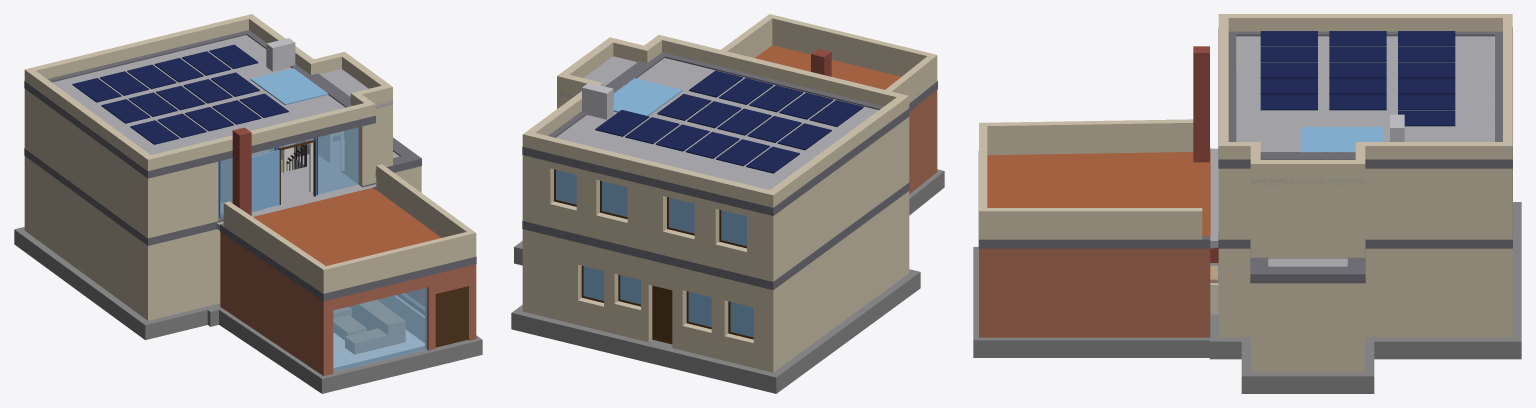
Rendered from casa_v8.glb.
The picture shows the model from 3 angles, left to right: view 1: azimuth 30°, elevation 25°; view 2: azimuth 150°, elevation 25°; view 3: azimuth 270°, elevation 25°; orthographic projection. The views are drawn at different scales.
Visible parts, largest first — view 1: muros_PB, muros_PA, muros_salon, parapeto_cubierta, paneles_solares, cimentacion, parapeto_terraza, forjado_cubierta, solado_terraza, cristal_PB, zuncho_cubierta, zuncho_forjado (+10 smaller); view 2: muros_PB, muros_PA, parapeto_cubierta, paneles_solares, cimentacion, forjado_cubierta, parapeto_terraza, zuncho_cubierta, zuncho_forjado, vidrios_PA, vidrios_PB, muros_salon (+7 smaller); view 3: muros_PB, muros_PA, muros_salon, cimentacion, parapeto_terraza, paneles_solares, forjado_cubierta, parapeto_cubierta, solado_terraza, zuncho_forjado, zuncho_cubierta, chimenea (+2 smaller).
Part boxes in pixels (x1,y1,x2,y2): muros_PB: (24,142,421,320); muros_PA: (24,35,392,238); muros_salon: (220,232,476,375); parapeto_cubierta: (24,14,392,170); paneles_solares: (72,44,288,144); cimentacion: (14,227,482,393); parapeto_terraza: (223,164,476,293); forjado_cubierta: (52,35,392,154); solado_terraza: (253,187,441,265); cristal_PB: (333,287,427,372); zuncho_cubierta: (24,30,375,178); zuncho_forjado: (24,136,476,301); muros_PB: (522,191,909,372); muros_PA: (522,58,909,281); parapeto_cubierta: (522,35,909,207); paneles_solares: (595,70,863,173); cimentacion: (511,169,944,393); forjado_cubierta: (556,56,878,189); parapeto_terraza: (721,14,937,103); zuncho_cubierta: (522,52,909,215); zuncho_forjado: (522,81,937,290); vidrios_PA: (556,170,746,246); vidrios_PB: (583,266,753,337); muros_salon: (909,90,937,193); muros_PB: (1218,248,1512,372); muros_PA: (1218,36,1512,258); muros_salon: (979,248,1210,337); cimentacion: (973,202,1521,393); parapeto_terraza: (979,119,1202,239); paneles_solares: (1260,31,1455,126); forjado_cubierta: (1236,36,1494,185); parapeto_cubierta: (1218,14,1512,178); solado_terraza: (987,151,1210,237); zuncho_forjado: (978,147,1512,283); zuncho_cubierta: (1218,27,1512,168); chimenea: (1193,46,1218,262).
Size of the model in its own units: 12.6 by 7.56 by 16.75.
